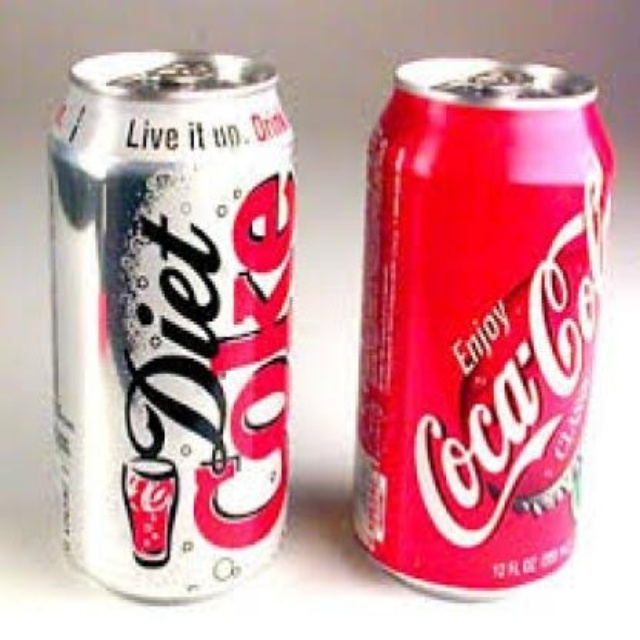trash: (354, 57, 612, 595), (49, 51, 292, 600)
